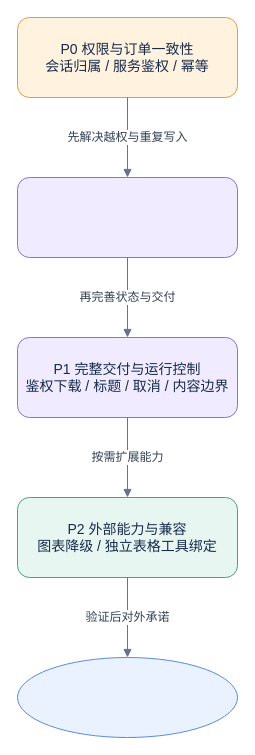
Image size: 255x755. Some labels were removed from this diagram. The shapes that lost their labels are listed below. From the top down, each one's centre as x and y in pixels, then its label:
At (x=127, y=217): "P1 持久化与隔离 持久 Store / 技能权限 / 沙箱协调".
At (x=127, y=697): "持续以真实任务验收 权限测试 / 重放 / 恢复 / 成本延迟".
